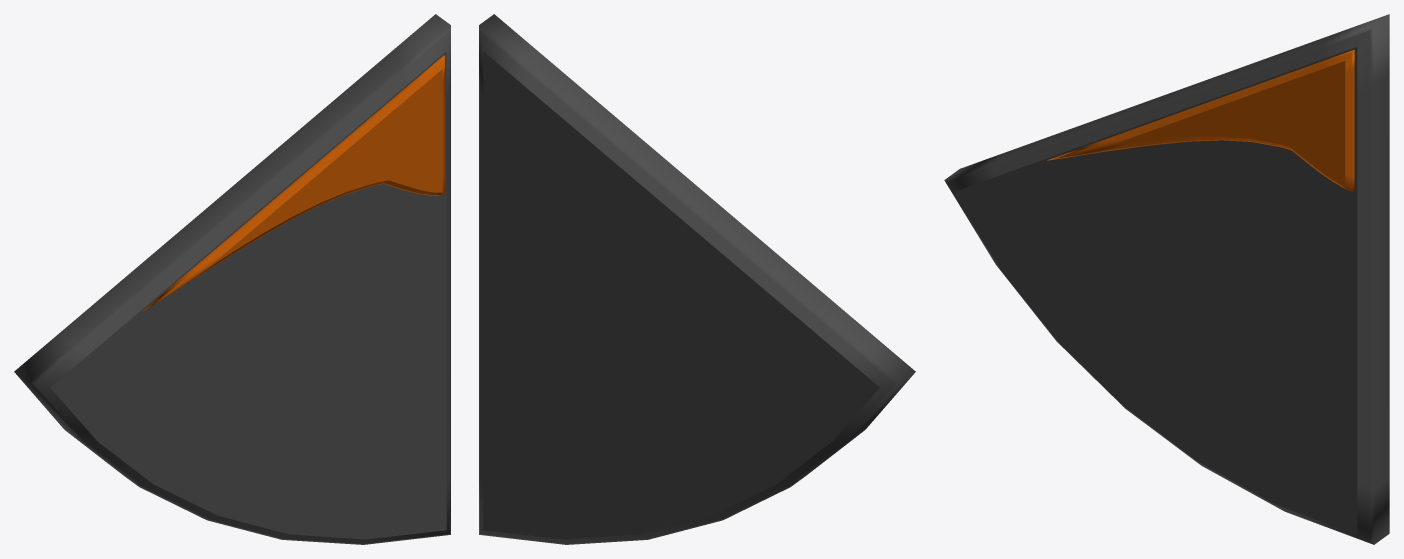
File: stele_piece_04.fbx
The picture shows the model from 3 angles, left to right: view 1: azimuth 30°, elevation 25°; view 2: azimuth 150°, elevation 25°; view 3: azimuth 330°, elevation 25°; orthographic projection.
Visible parts, largest first — view 1: polySurface33, polySurface5; view 2: polySurface33; view 3: polySurface33, polySurface5.
Boxes of the visible parts, x1,y1,x2,y2 form: polySurface33: (14, 14, 450, 544); polySurface5: (143, 55, 444, 311); polySurface33: (479, 14, 915, 544); polySurface33: (944, 14, 1389, 544); polySurface5: (1047, 49, 1354, 192).
Bounding box in the file's own units: 3.99 × 4.61 × 0.5135.
